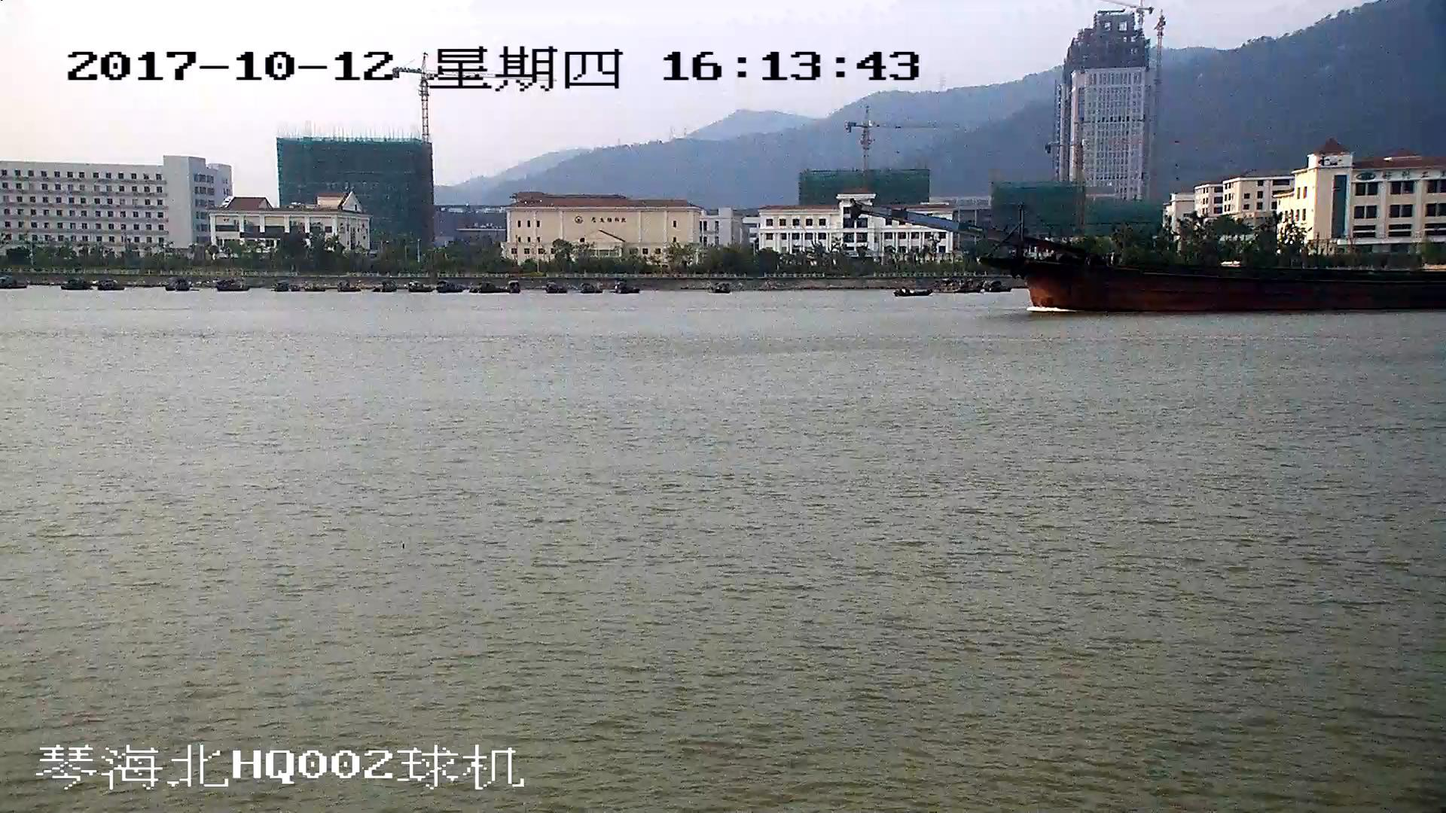bulk cargo carrier: (856, 207, 1445, 310)
